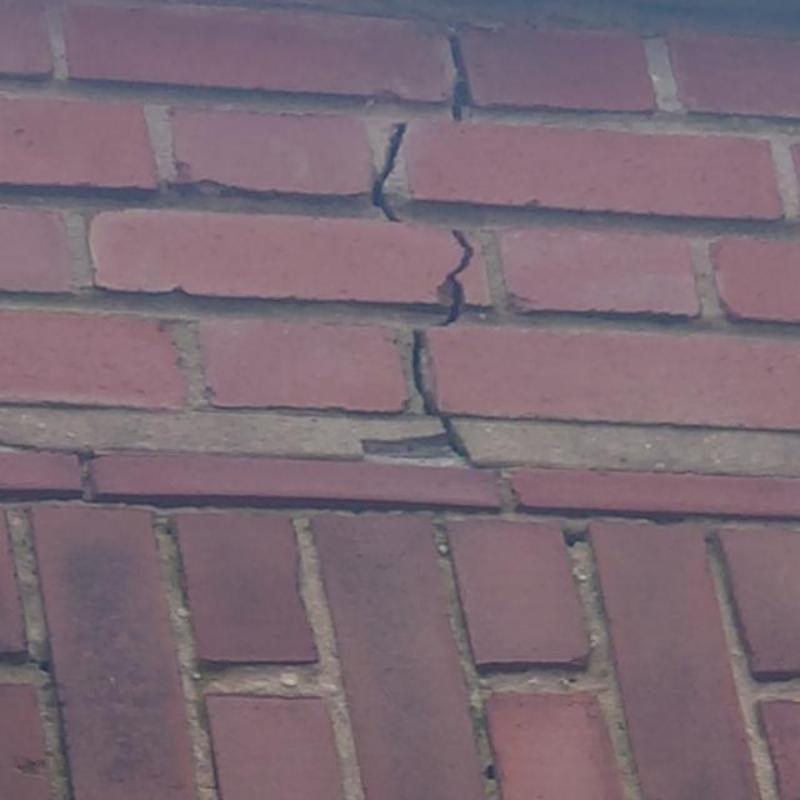crack: (415, 330, 467, 457), (372, 123, 405, 221), (442, 230, 473, 324), (448, 34, 472, 121)
